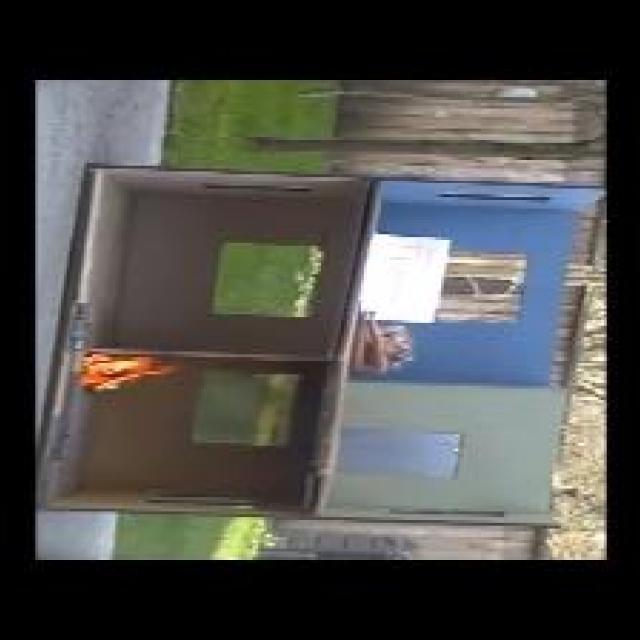Fire: (84, 356, 178, 393)
